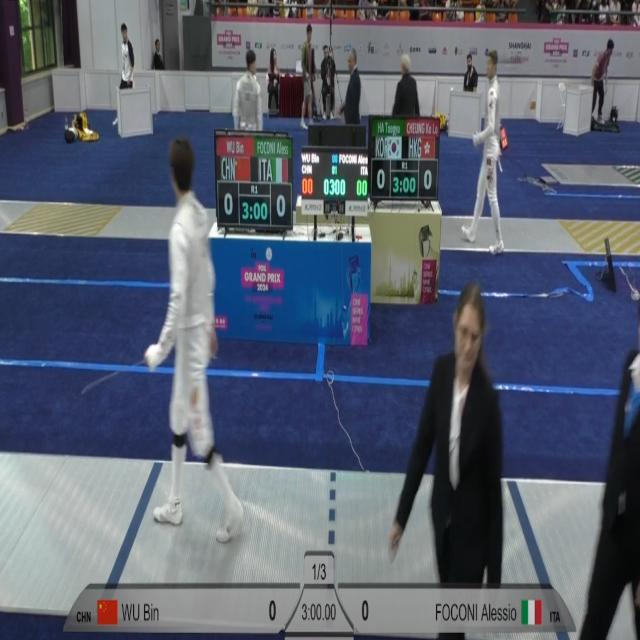fencer: (161, 148, 240, 556)
overlayLeft: (68, 588, 237, 638)
overlayRight: (387, 587, 578, 629)
scoreLeft: (240, 591, 301, 636)
scoreRight: (339, 590, 384, 636)
